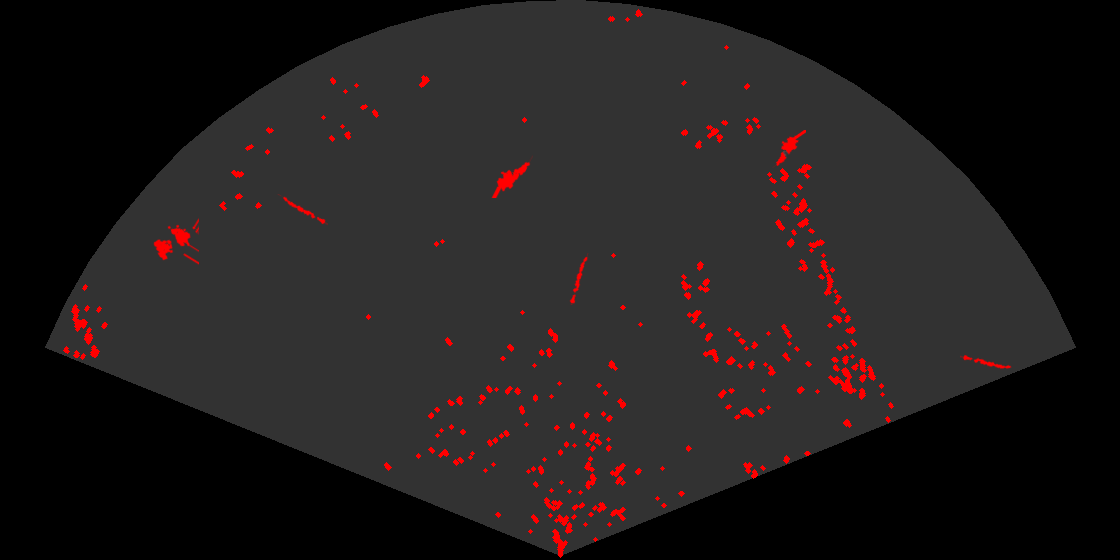cage: (152, 217, 199, 267)
chain: (276, 194, 328, 227), (568, 253, 589, 305), (960, 353, 1012, 371)
frogman: (490, 154, 533, 198), (771, 130, 806, 168)
